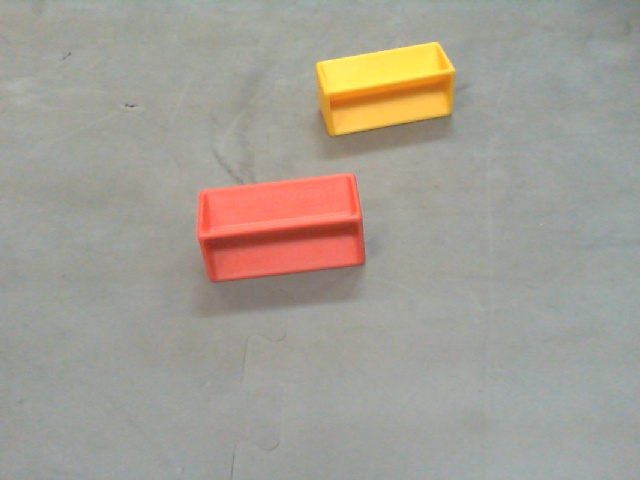RedSample: (199, 171, 367, 277)
YellowSample: (312, 38, 457, 141)
